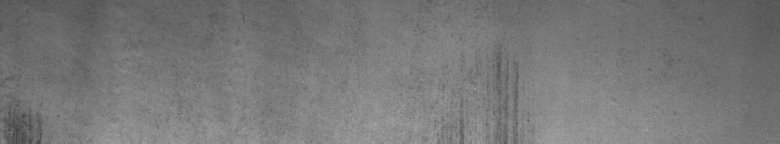ka: (457, 52, 524, 136)
